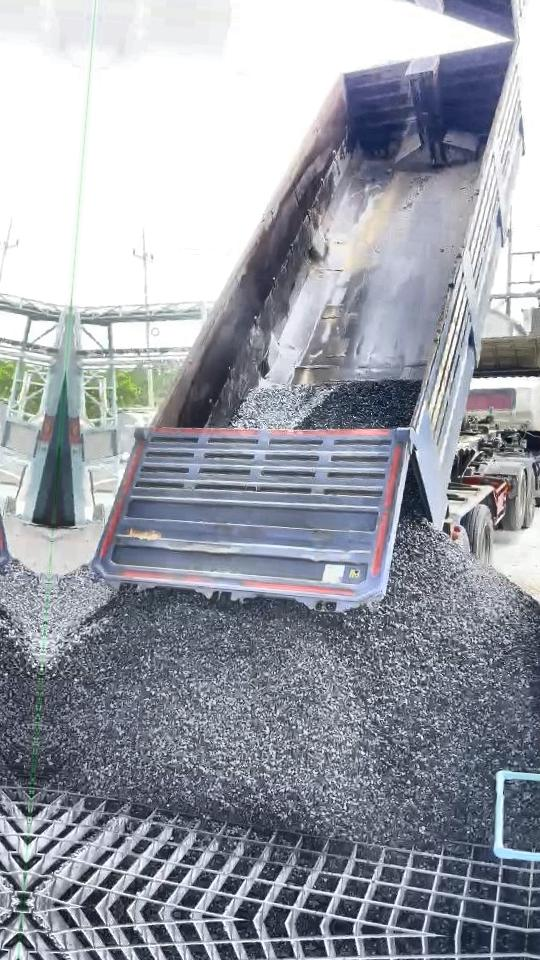gravel: (38, 476, 540, 843), (229, 380, 421, 429), (45, 566, 111, 663), (505, 780, 539, 851)
